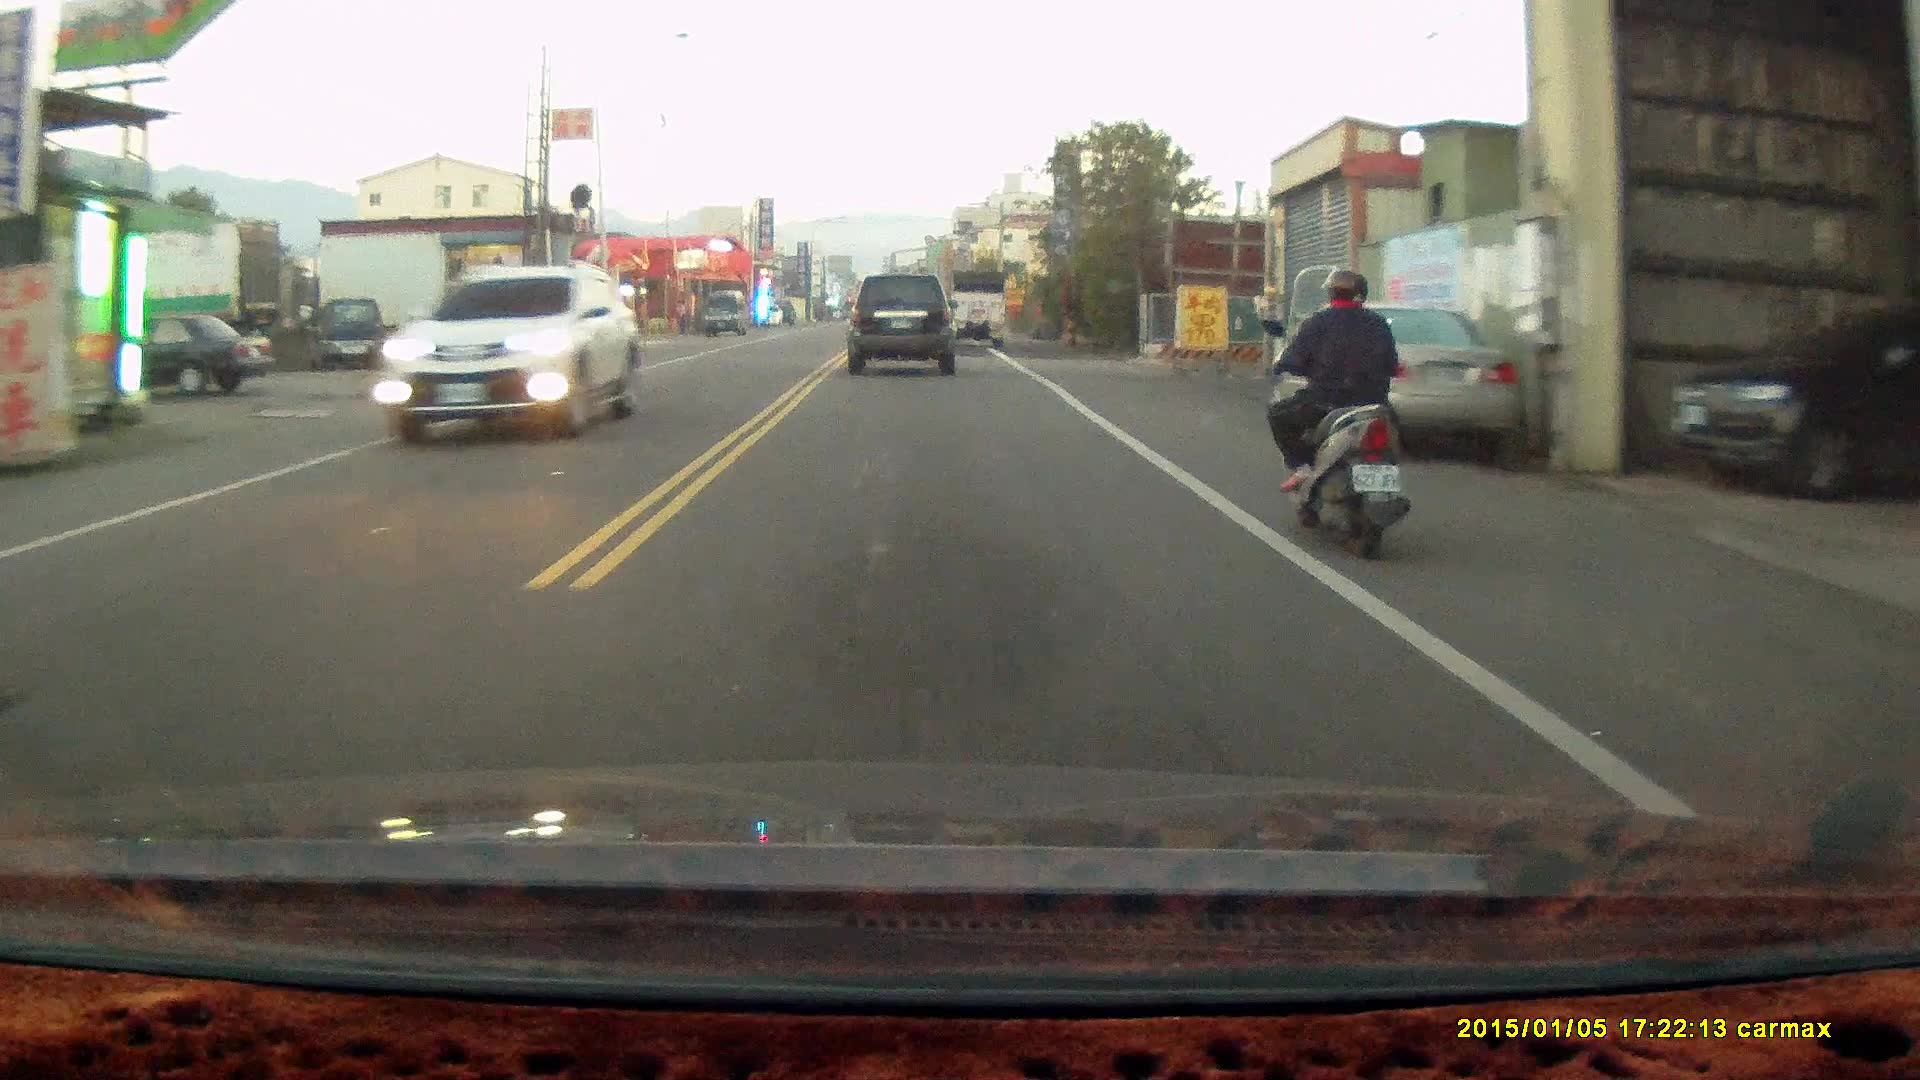rider: (1265, 260, 1412, 557)
vehicle: (1666, 293, 1920, 500), (370, 265, 645, 442), (1259, 301, 1519, 455), (98, 312, 275, 398), (848, 272, 961, 381), (311, 299, 387, 370), (946, 268, 1010, 350)
